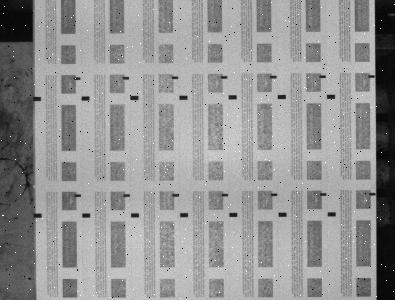backgroundclutter: (28, 277, 32, 280)
qblock: (179, 95, 188, 100), (278, 212, 287, 217), (229, 212, 238, 217), (34, 213, 42, 218), (327, 94, 335, 99), (33, 96, 41, 101), (130, 96, 139, 100), (81, 96, 90, 100), (327, 212, 336, 216), (82, 213, 90, 217), (229, 95, 237, 99), (131, 213, 139, 217), (278, 95, 286, 99), (180, 213, 188, 217)
smallqblock: (221, 75, 228, 79), (123, 76, 129, 80), (173, 193, 179, 197), (222, 193, 228, 197), (123, 194, 130, 197), (271, 193, 278, 196), (369, 192, 376, 195), (270, 75, 277, 78), (319, 75, 326, 78), (74, 77, 81, 80), (320, 193, 327, 196), (172, 76, 178, 79), (75, 194, 81, 197), (369, 75, 375, 78)
